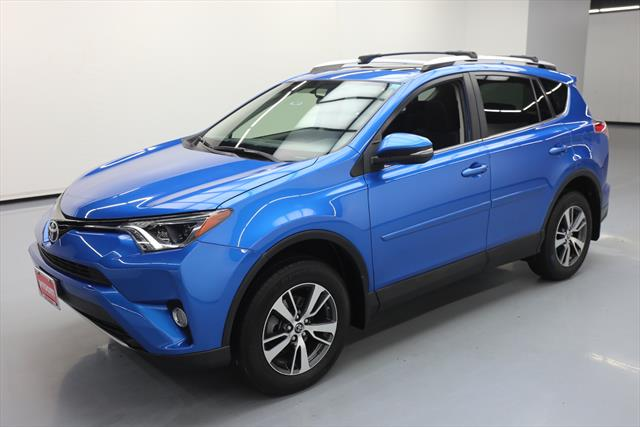Toyota RAV-4: (26, 60, 611, 399)
